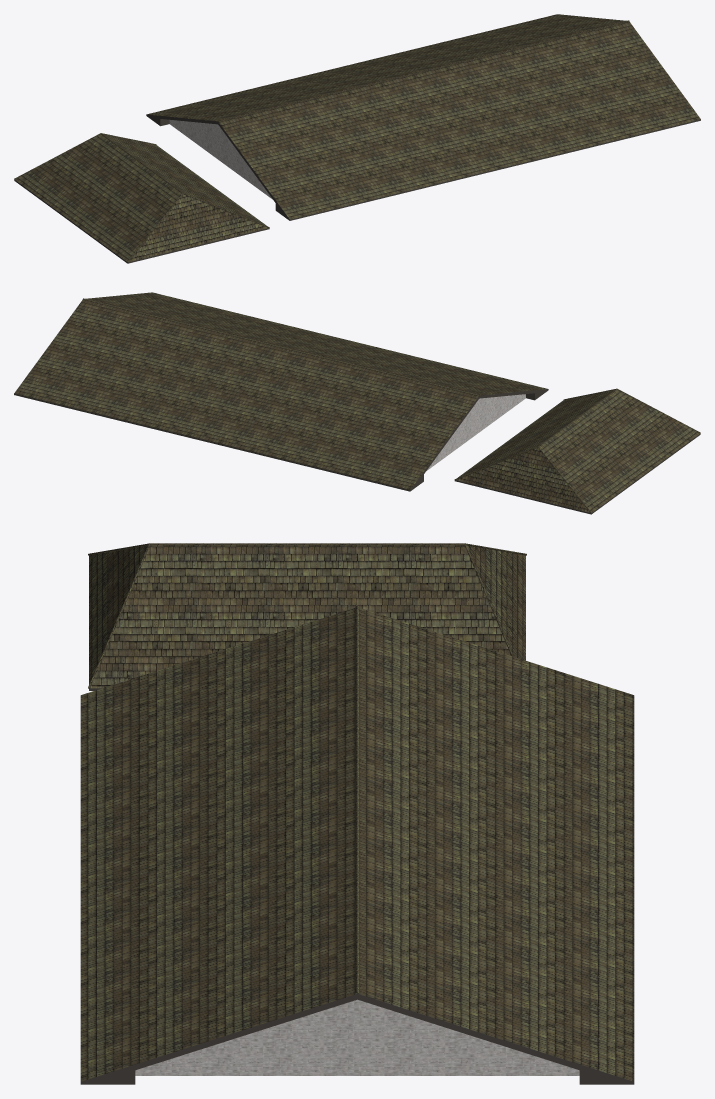
The model's file is House_ContemporaryVI_Roofs-House_Garage.obj.
The picture shows the model from 3 angles, top to bottom: view 1: azimuth 30°, elevation 25°; view 2: azimuth 150°, elevation 25°; view 3: azimuth 270°, elevation 25°; orthographic projection. The views are drawn at different scales.
Visible parts, largest first — view 1: House_ContemporaryVI_Roofs-House_Garage-COM-Roof_House-1304-Roof, House_ContemporaryVI_Roofs-House_Garage-COM-Roof_Garage-1303-Roo, House_ContemporaryVI_Roofs-House_Garage-COM-Roof_House-1304-Whit, House_ContemporaryVI_Roofs-House_Garage-COM-Roof_House-1304-SW_7, House_ContemporaryVI_Roofs-House_Garage-GRP-_Round_-1200-Roofing, House_ContemporaryVI_Roofs-House_Garage-COM-Roof_Garage-1303-SW_; view 2: House_ContemporaryVI_Roofs-House_Garage-COM-Roof_House-1304-Roof, House_ContemporaryVI_Roofs-House_Garage-COM-Roof_Garage-1303-Roo, House_ContemporaryVI_Roofs-House_Garage-COM-Roof_House-1304-Whit, House_ContemporaryVI_Roofs-House_Garage-COM-Roof_House-1304-SW_7, House_ContemporaryVI_Roofs-House_Garage-GRP-_Round_-1200-Roofing, House_ContemporaryVI_Roofs-House_Garage-COM-Roof_Garage-1303-SW_; view 3: House_ContemporaryVI_Roofs-House_Garage-COM-Roof_House-1304-Roof, House_ContemporaryVI_Roofs-House_Garage-COM-Roof_Garage-1303-Roo, House_ContemporaryVI_Roofs-House_Garage-COM-Roof_House-1304-Whit, House_ContemporaryVI_Roofs-House_Garage-COM-Roof_House-1304-SW_7, House_ContemporaryVI_Roofs-House_Garage-GRP-_Round_-1200-Roofing, House_ContemporaryVI_Roofs-House_Garage-GRP-_Round_-1278-Roofing.
Part boxes in pixels (<box>): House_ContemporaryVI_Roofs-House_Garage-COM-Roof_House-1304-Roof: <box>146,14,700,219</box>; House_ContemporaryVI_Roofs-House_Garage-COM-Roof_Garage-1303-Roo: <box>15,134,267,261</box>; House_ContemporaryVI_Roofs-House_Garage-COM-Roof_House-1304-Whit: <box>169,120,272,199</box>; House_ContemporaryVI_Roofs-House_Garage-COM-Roof_House-1304-SW_7: <box>146,114,700,220</box>; House_ContemporaryVI_Roofs-House_Garage-GRP-_Round_-1200-Roofing: <box>218,20,629,122</box>; House_ContemporaryVI_Roofs-House_Garage-COM-Roof_Garage-1303-SW_: <box>14,179,269,263</box>; House_ContemporaryVI_Roofs-House_Garage-COM-Roof_House-1304-Roof: <box>14,292,547,490</box>; House_ContemporaryVI_Roofs-House_Garage-COM-Roof_Garage-1303-Roo: <box>456,389,699,512</box>; House_ContemporaryVI_Roofs-House_Garage-COM-Roof_House-1304-Whit: <box>426,394,525,470</box>; House_ContemporaryVI_Roofs-House_Garage-COM-Roof_House-1304-SW_7: <box>14,389,548,491</box>; House_ContemporaryVI_Roofs-House_Garage-GRP-_Round_-1200-Roofing: <box>82,298,479,396</box>; House_ContemporaryVI_Roofs-House_Garage-COM-Roof_Garage-1303-SW_: <box>454,433,700,514</box>; House_ContemporaryVI_Roofs-House_Garage-COM-Roof_House-1304-Roof: <box>80,608,634,1081</box>; House_ContemporaryVI_Roofs-House_Garage-COM-Roof_Garage-1303-Roo: <box>89,545,525,688</box>; House_ContemporaryVI_Roofs-House_Garage-COM-Roof_House-1304-Whit: <box>135,999,579,1075</box>; House_ContemporaryVI_Roofs-House_Garage-COM-Roof_House-1304-SW_7: <box>80,994,634,1084</box>; House_ContemporaryVI_Roofs-House_Garage-GRP-_Round_-1200-Roofing: <box>355,606,359,994</box>; House_ContemporaryVI_Roofs-House_Garage-GRP-_Round_-1278-Roofing: <box>150,543,464,545</box>.
Size of the model in its own units: 31.92 by 2.83 by 13.89.
